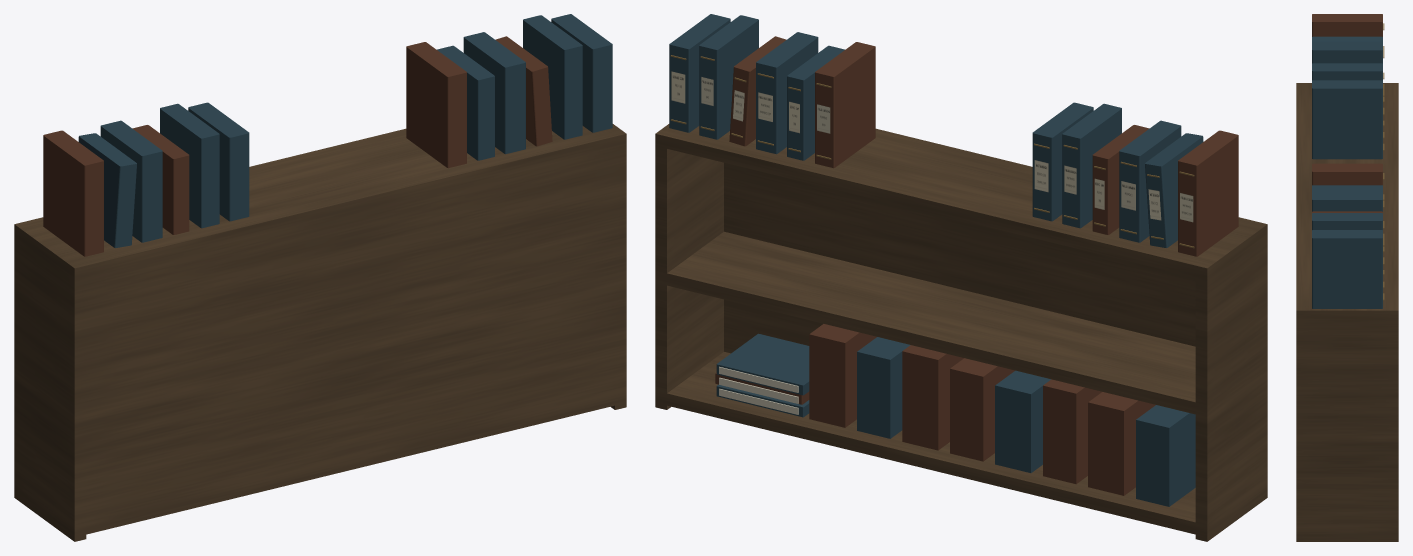
Rendered from SM_ArchiveProps_Bookcase.glb.
3 views of the same model, side by side, from view 1: azimuth 30°, elevation 25°; view 2: azimuth 150°, elevation 25°; view 3: azimuth 270°, elevation 25° (orthographic). The views are drawn at different scales.
Visible parts, largest first — view 1: SM_ArchiveProps_Bookcase; view 2: SM_ArchiveProps_Bookcase; view 3: SM_ArchiveProps_Bookcase.
Boxes of the visible parts, x1,y1,x2,y2 form: SM_ArchiveProps_Bookcase: (14,14,626,541); SM_ArchiveProps_Bookcase: (655,14,1267,541); SM_ArchiveProps_Bookcase: (1296,14,1398,541).
Bounding box in the file's own units: 1.9 × 1.2 × 0.36.
Materials: 6 (2 with a texture image).
